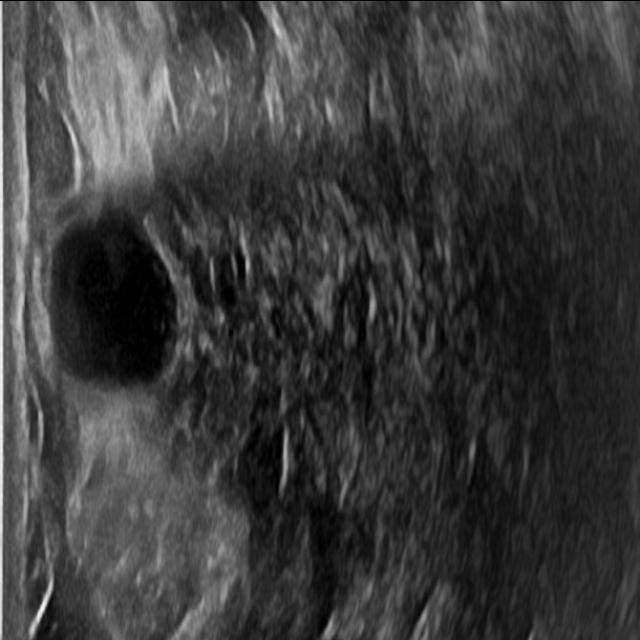Benign: (40, 207, 176, 390)
